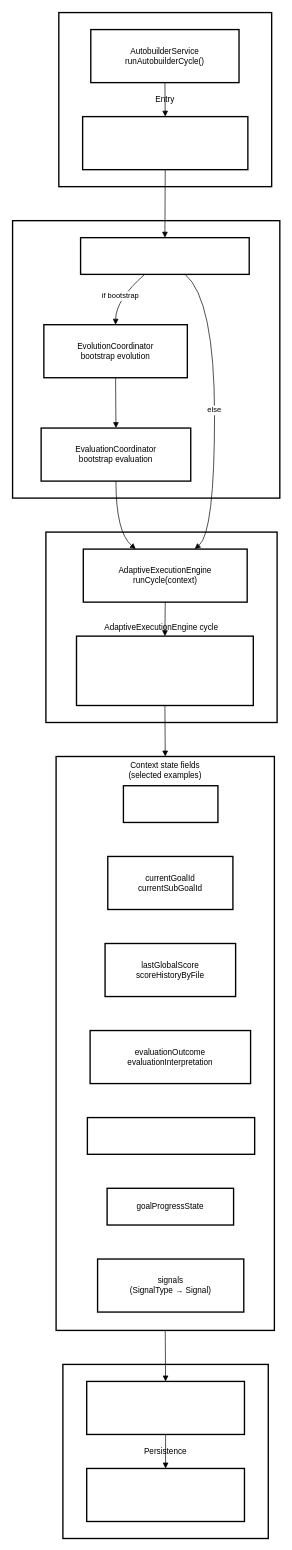
Some shapes in this 292 by 1550 pixel diagram are drawn without their labels. The shapes that lost their labels are listed below. From the top down, each one's centre as x and y in pixels, then its label:
At (x=165, y=143): "CycleContextCoordinator prepareRuntimeContext()".
At (x=165, y=256): "Check: isBootstrapNeeded".
At (x=164, y=670): "Planner / Evolution / Evaluation / Merge via AgentCoordinators".
At (x=170, y=804): "projectDiff".
At (x=170, y=1136): "mutationAcceptanceState".
At (x=165, y=1407): "CyclePersistenceService persistSnapshot()".
At (x=165, y=1494): "CyclePersistenceService writeMetadata()".
